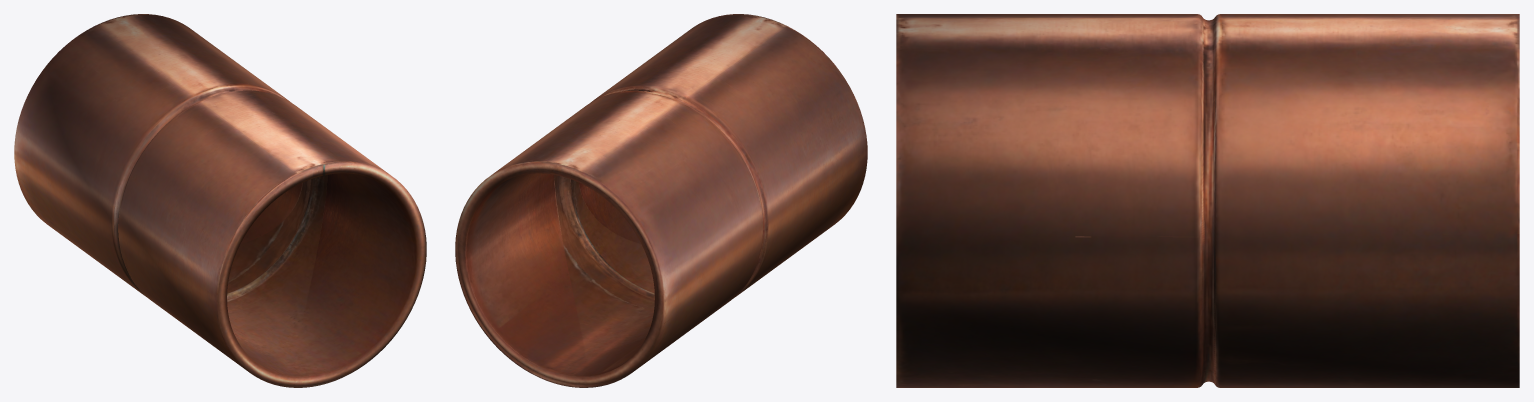
The picture shows the model from 3 angles, left to right: view 1: azimuth 30°, elevation 25°; view 2: azimuth 150°, elevation 25°; view 3: azimuth 270°, elevation 25°; orthographic projection. The views are drawn at different scales.
Visible parts, largest first — view 1: Connector_0226052555_texture; view 2: Connector_0226052555_texture; view 3: Connector_0226052555_texture.
Boxes of the visible parts, x1,y1,x2,y2 form: Connector_0226052555_texture: [14, 14, 426, 387]; Connector_0226052555_texture: [455, 14, 867, 387]; Connector_0226052555_texture: [896, 14, 1519, 387].
Size of the model in its own units: 1.2 by 1.2 by 2.
